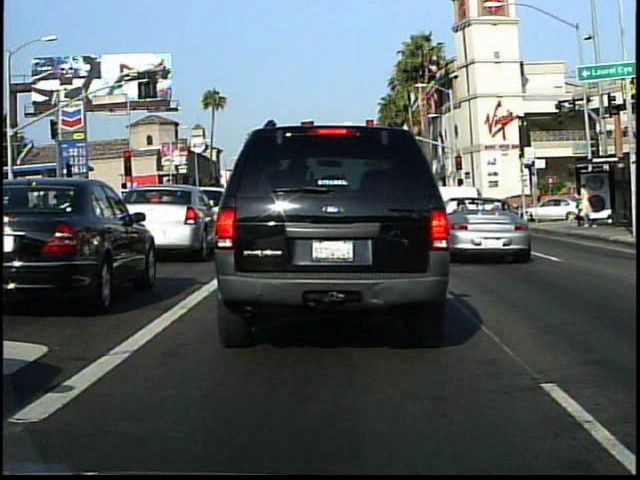person: (571, 179, 596, 232)
